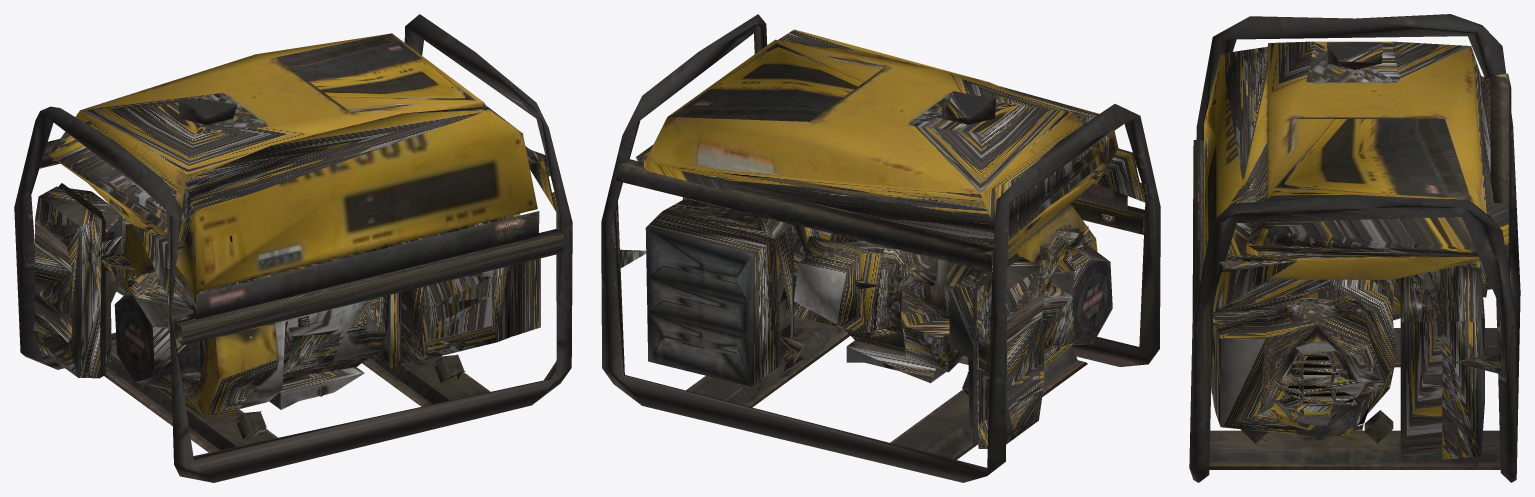
The model's file is generator.glb.
The picture shows the model from 3 angles, left to right: view 1: azimuth 30°, elevation 25°; view 2: azimuth 150°, elevation 25°; view 3: azimuth 270°, elevation 25°; orthographic projection.
Visible parts, largest first — view 1: portable_generator; view 2: portable_generator; view 3: portable_generator.
Part boxes in pixels (x1=…): portable_generator: x1=14, y1=14, x2=572, y2=482; portable_generator: x1=601, y1=14, x2=1160, y2=482; portable_generator: x1=1189, y1=14, x2=1520, y2=482.
Bounding box in the file's own units: 0.8002 × 0.5768 × 0.5591.
1 material, 1 textured.
